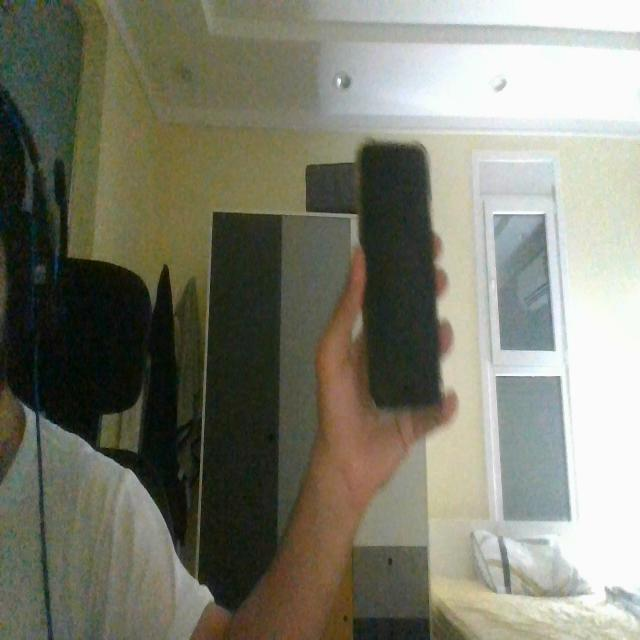Phone: (355, 140, 447, 412)
